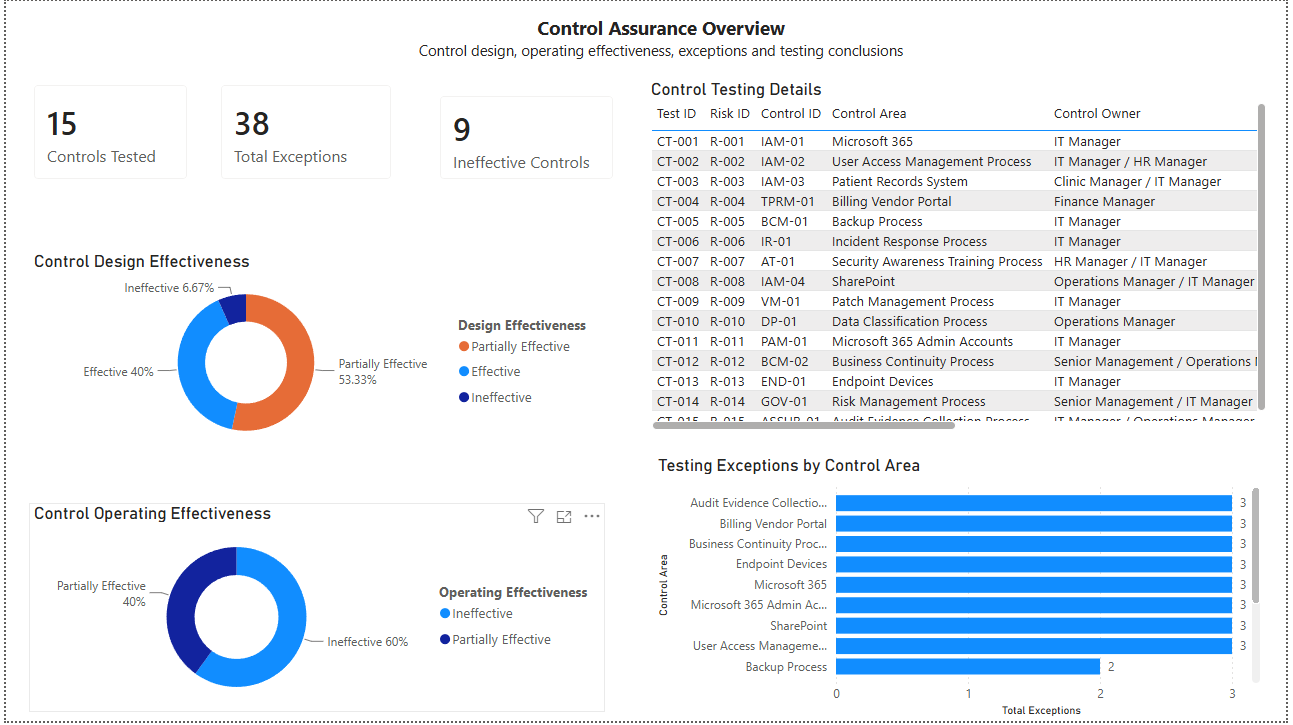

This screenshot's page, from the dashboard's own definition file:
{"tool":"powerbi","page":{"name":"Control Assurance","canvas":[1280,720],"ordinal":2},"visuals":[{"type":"textbox","box":[328.8,8.8,652.6,69.1],"z":0},{"type":"cardVisual","fields":{"Data":["Controls.Total Exceptions"]},"box":[198.4,67.1,203.3,127.4],"z":1000},{"type":"cardVisual","fields":{"Data":["Controls.Ineffective Controls"]},"box":[417.3,77.8,207.2,116.7],"z":2000},{"type":"cardVisual","fields":{"Data":["Controls.Controls Tested"]},"box":[10.7,67.1,187.7,127.4],"z":3000},{"type":"donutChart","title":"Control Design Effectiveness","fields":{"Category":["Controls.Design Effectiveness"],"Y":["Controls.Controls Tested"]},"box":[23.3,250,575.8,204.3],"z":4000},{"type":"donutChart","title":"Control Operating Effectiveness","fields":{"Y":["Controls.Controls Tested"],"Category":["Controls.Operating Effectiveness"]},"box":[23.3,501.9,575.8,209.1],"z":5000},{"type":"clusteredBarChart","title":"Testing Exceptions by Control Area","fields":{"Y":["Controls.Total Exceptions"],"Category":["Controls.Control Area"]},"box":[646.8,454.2,611.8,265.5],"z":6000},{"type":"tableEx","title":"Control Testing Details","fields":{"Values":["Controls.Test ID","Controls.Risk ID","Controls.Control ID","Controls.Control Area","Controls.Control Owner","Controls.Design Effectiveness","Controls.Operating Effectiveness","Controls.Overall Conclusion","Controls.Exceptions","Controls.Severity"]},"box":[640,77.8,625.4,356],"z":7000}]}

Visuals, with their boxes in screenshot pixels (x1, y1, x2, y2), scaled from the page's 1280x720 canvas onto the 1293x725 screenshot:
textbox: {"left": 332, "top": 9, "right": 991, "bottom": 78}
cardVisual - Controls.Total Exceptions: {"left": 200, "top": 68, "right": 406, "bottom": 196}
cardVisual - Controls.Ineffective Controls: {"left": 422, "top": 78, "right": 631, "bottom": 196}
cardVisual - Controls.Controls Tested: {"left": 11, "top": 68, "right": 200, "bottom": 196}
"Control Design Effectiveness" donutChart: {"left": 24, "top": 252, "right": 605, "bottom": 457}
"Control Operating Effectiveness" donutChart: {"left": 24, "top": 505, "right": 605, "bottom": 716}
"Testing Exceptions by Control Area" clusteredBarChart: {"left": 653, "top": 457, "right": 1271, "bottom": 724}
"Control Testing Details" tableEx: {"left": 646, "top": 78, "right": 1278, "bottom": 437}
